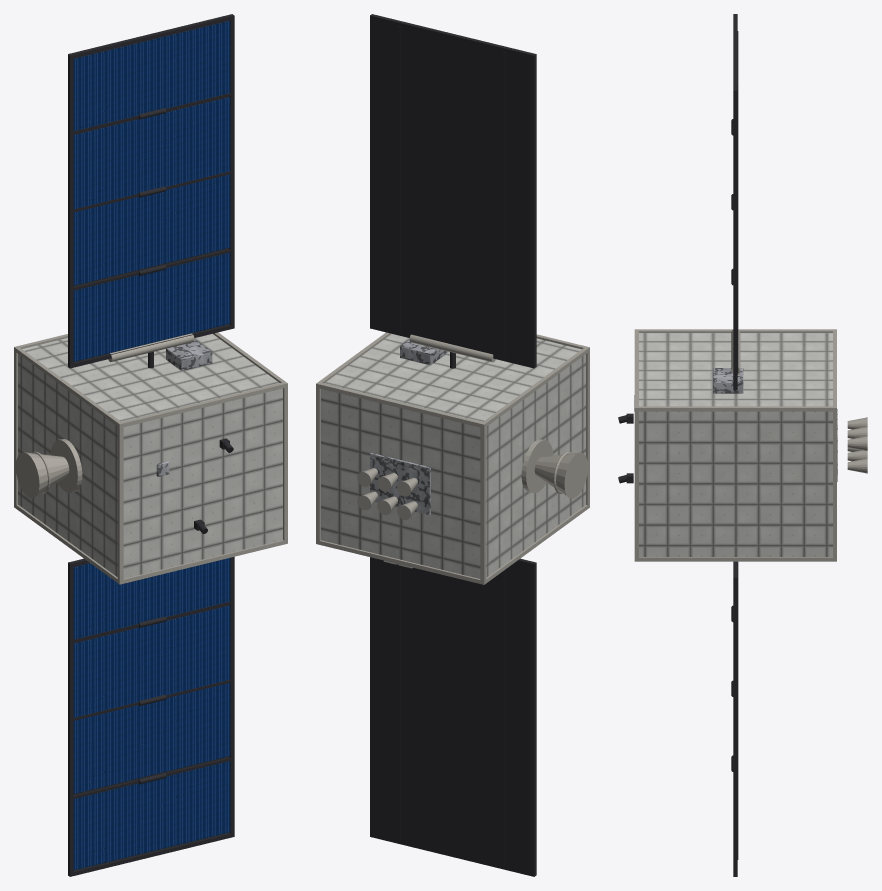
Rendered from client.high.glb.
The picture shows the model from 3 angles, left to right: view 1: azimuth 30°, elevation 25°; view 2: azimuth 150°, elevation 25°; view 3: azimuth 270°, elevation 25°; orthographic projection. The views are drawn at different scales.
Visible parts, largest first — view 1: solar_wing_r, solar_wing_l, bus, bus_frame, servicing_0_apogee_nozzle_apogee_nozzle_exit, equip_0, solar_hinge_r; view 2: solar_wing_r, solar_wing_l, bus, bus_frame, payload_0_feed_array, servicing_0_apogee_nozzle_apogee_nozzle_exit, equip_0, solar_hinge_r; view 3: bus, bus_frame, solar_wing_r, solar_wing_l, payload_0_feed_array, equip_0.
Part boxes in pixels (x1=…): solar_wing_r: x1=68, y1=14, x2=234, y2=368; solar_wing_l: x1=68, y1=556, x2=234, y2=876; bus: x1=18, y1=334, x2=282, y2=578; bus_frame: x1=14, y1=332, x2=287, y2=584; servicing_0_apogee_nozzle_apogee_nozzle_exit: x1=15, y1=439, x2=82, y2=498; equip_0: x1=166, y1=340, x2=212, y2=370; solar_hinge_r: x1=108, y1=333, x2=194, y2=362; solar_wing_r: x1=370, y1=14, x2=536, y2=368; solar_wing_l: x1=370, y1=557, x2=536, y2=876; bus: x1=321, y1=334, x2=585, y2=578; bus_frame: x1=316, y1=332, x2=589, y2=584; payload_0_feed_array: x1=357, y1=453, x2=430, y2=519; servicing_0_apogee_nozzle_apogee_nozzle_exit: x1=521, y1=439, x2=587, y2=498; equip_0: x1=400, y1=339, x2=446, y2=365; solar_hinge_r: x1=409, y1=334, x2=495, y2=362; bus: x1=639, y1=333, x2=832, y2=556; bus_frame: x1=634, y1=329, x2=836, y2=561; solar_wing_r: x1=731, y1=14, x2=738, y2=390; solar_wing_l: x1=731, y1=561, x2=738, y2=876; payload_0_feed_array: x1=837, y1=409, x2=867, y2=481; equip_0: x1=713, y1=368, x2=743, y2=393.
Size of the model in its own units: 2.78 by 10.5 by 3.02.
5 materials, 3 textured.
